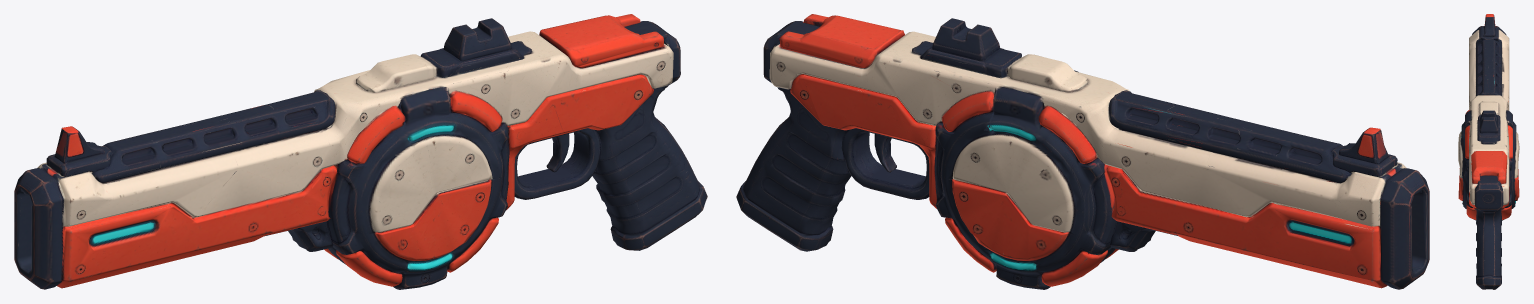
File: handcannon.glb
3 renders of one model, left to right at view 1: azimuth 30°, elevation 25°; view 2: azimuth 150°, elevation 25°; view 3: azimuth 270°, elevation 25°, orthographic. The views are drawn at different scales.
Bounding box in the file's own units: 0.9575 × 0.3491 × 0.1465.
Materials: 1 (1 with a texture image).
